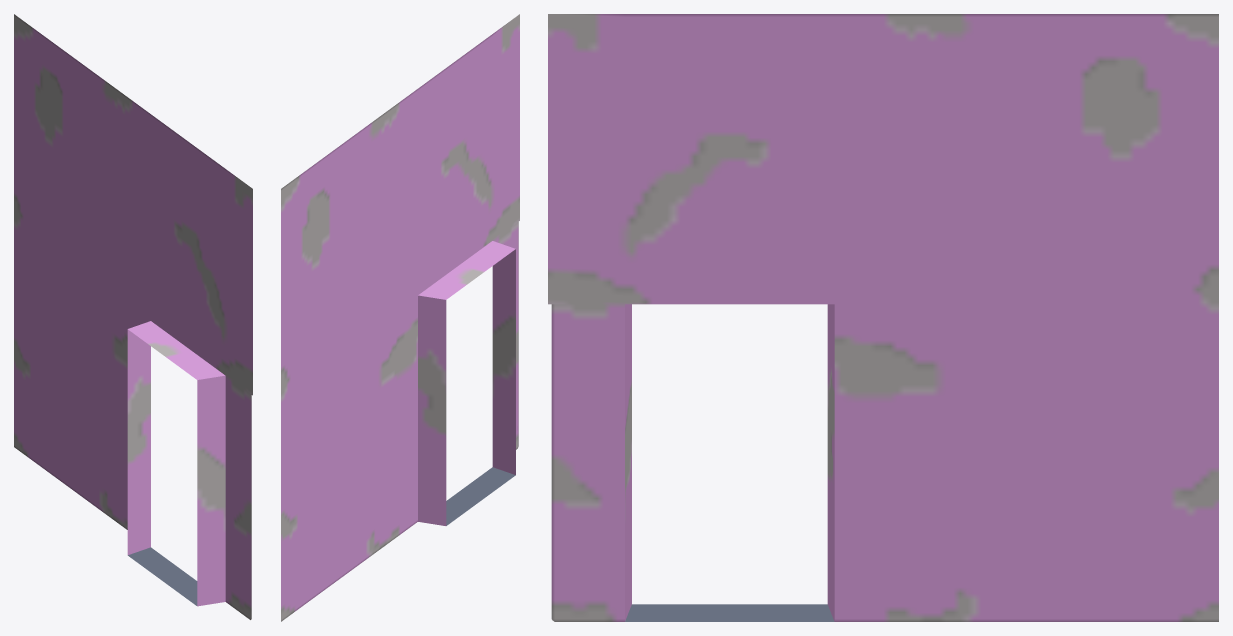
Rendered from ParedPuertaRosa4.fbx.
3 views of the same model, side by side, from view 1: azimuth 30°, elevation 25°; view 2: azimuth 150°, elevation 25°; view 3: azimuth 270°, elevation 25° (orthographic). The views are drawn at different scales.
Parts seen in each view (by area): view 1: Pared + puerta 3; view 2: Pared + puerta 3; view 3: Pared + puerta 3.
Part boxes in pixels (left/top/right/bottom): Pared + puerta 3: left=14, top=14, right=252, bottom=619; Pared + puerta 3: left=281, top=14, right=519, bottom=621; Pared + puerta 3: left=548, top=14, right=1218, bottom=621.
Size of the model in its own units: 18.75 by 300 by 300.
1 material, 1 textured.
